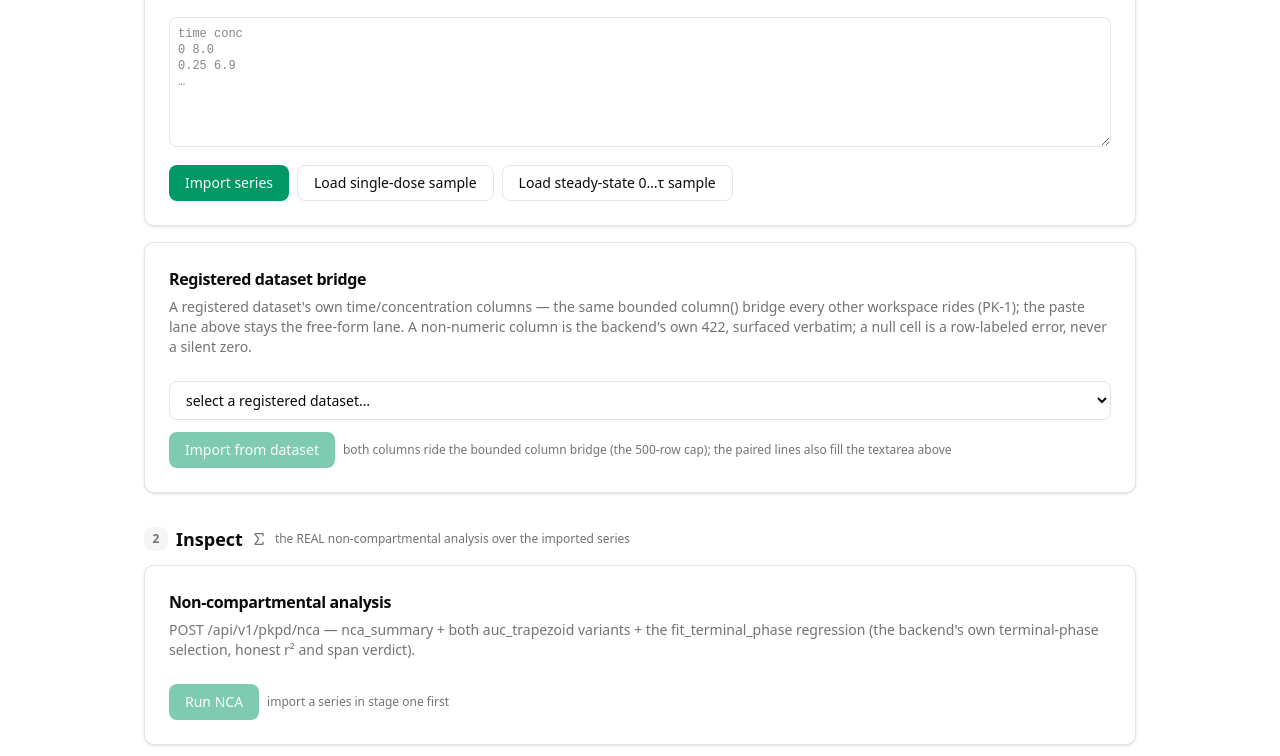
Test: PKPDPage stage 1 — the registered dataset bridge (PK-1) › surfaces the backend's 422 on a non-numeric column verbatim — never a silent failure
(page scrolled)
Select "pk_profile.csv · 5 rows · 3 columns" in the dropdown named "the registered dataset". click: (640, 400)
box: x1=169 y1=381 x2=1111 y2=420
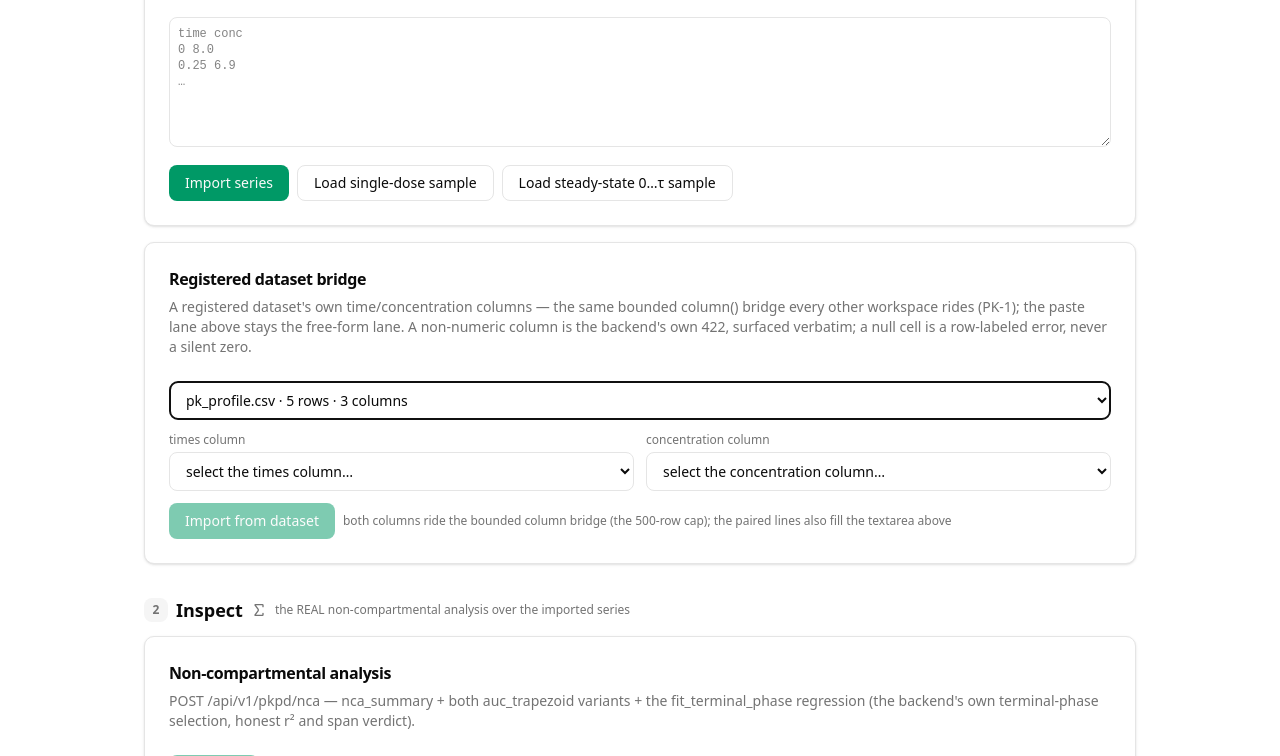
Check: the dropdown named "the times column" is shown
Select "time" in the dropdown named "the times column". click: (402, 472)
box: x1=169 y1=452 x2=634 y2=491
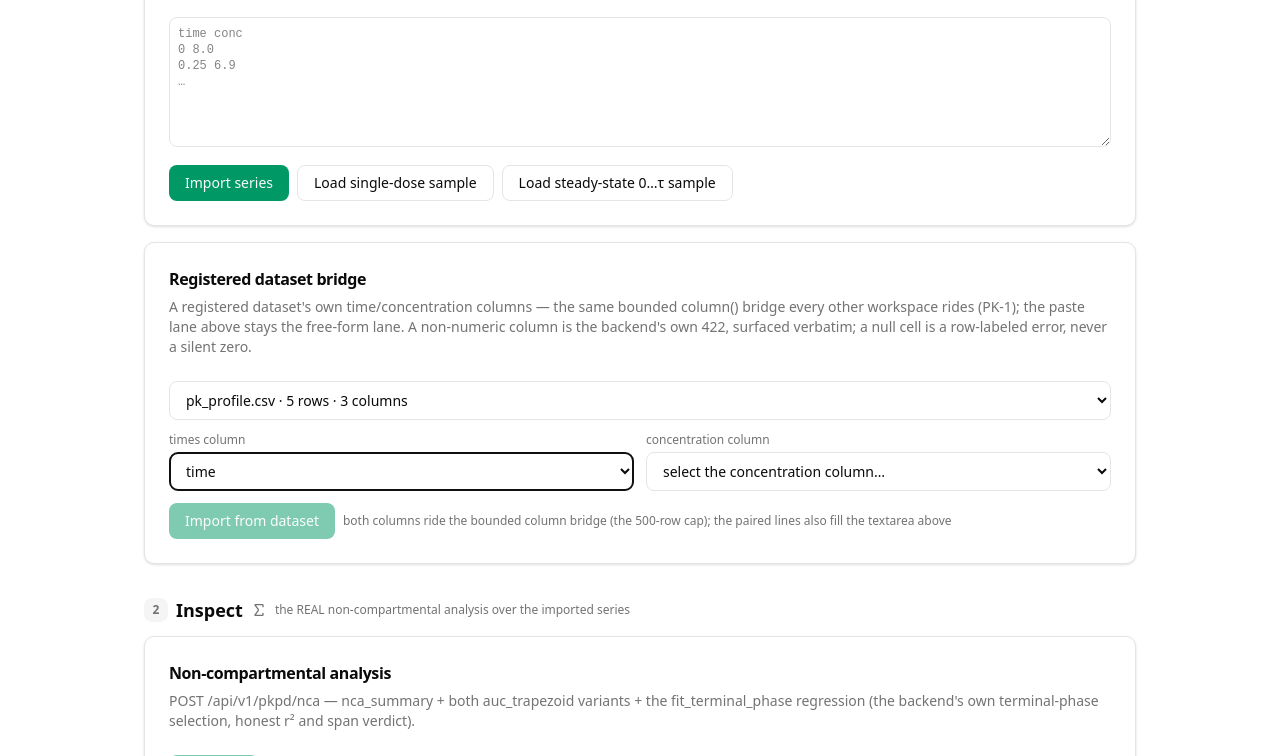
Select "conc" in the dropdown named "the concentration column". click: (878, 472)
box: x1=646 y1=452 x2=1111 y2=491
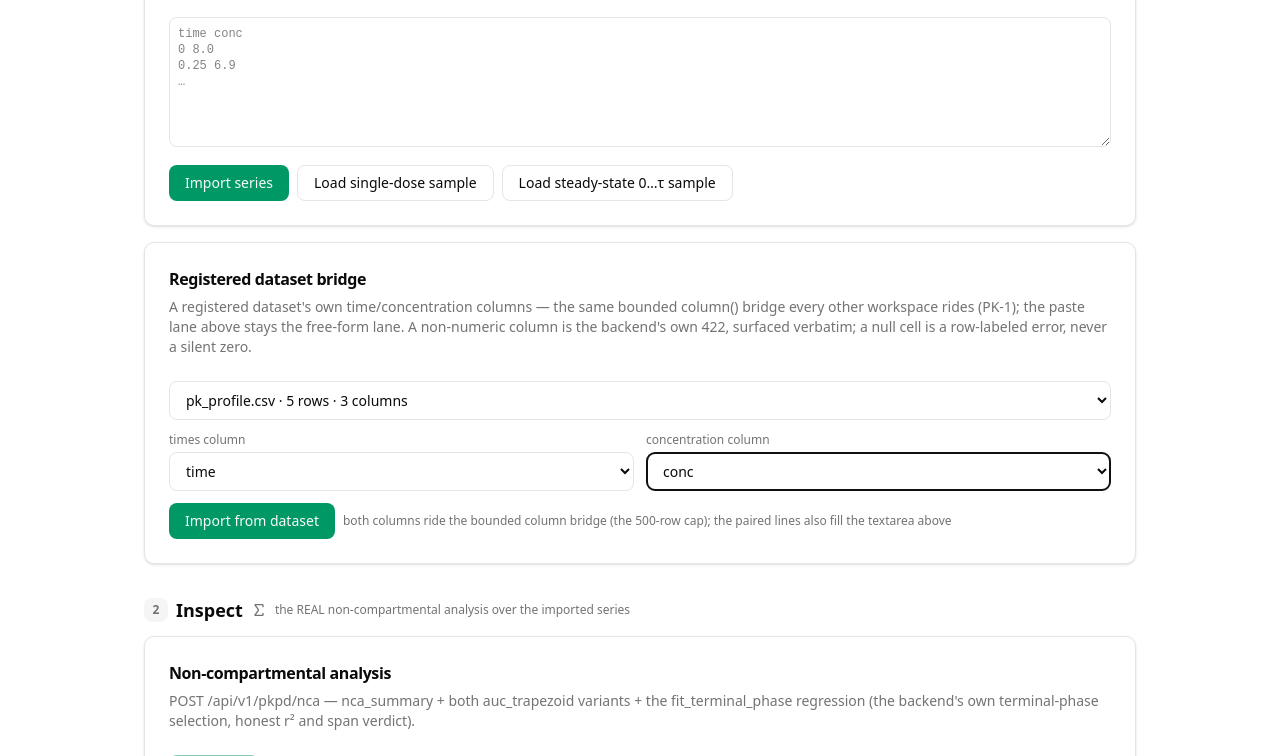
Click the button "Import from dataset". click: (252, 521)
box: x1=169 y1=503 x2=335 y2=539
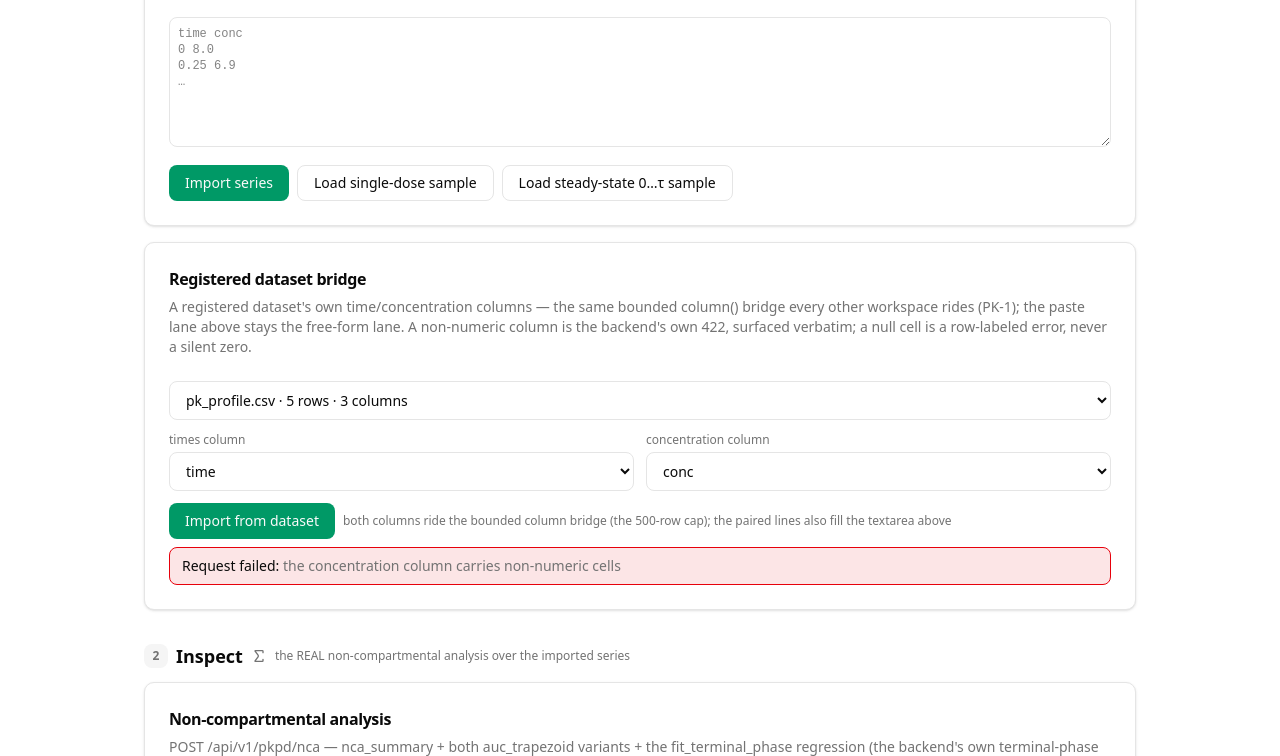
Check: the text "the concentration column carries non-numeric cells" is shown, box x1=283 y1=556 x2=621 y2=575
